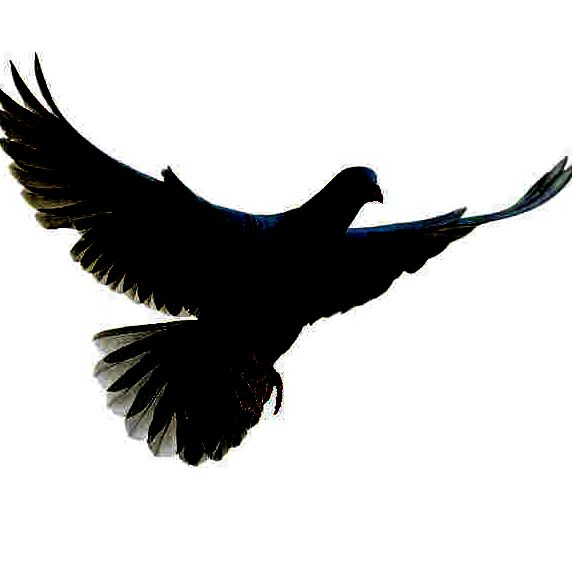Bird: (1, 48, 571, 469)
